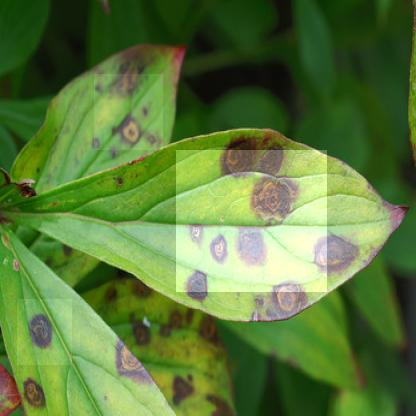black-spot: (176, 150, 327, 292), (94, 74, 163, 150), (17, 300, 72, 366)
